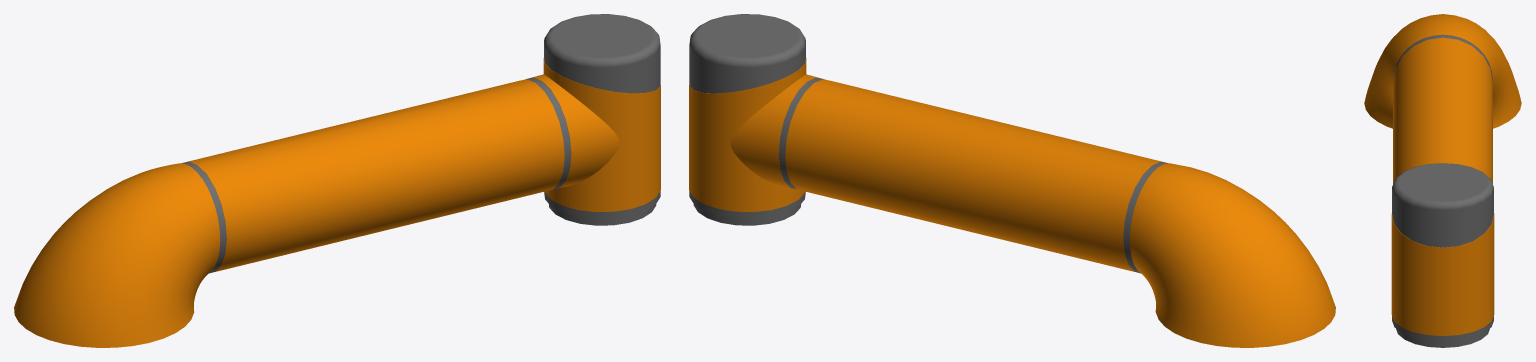
3 renders of one model, left to right at view 1: azimuth 30°, elevation 25°; view 2: azimuth 150°, elevation 25°; view 3: azimuth 270°, elevation 25°, orthographic. The views are drawn at different scales.
Parts seen in each view (by area): view 1: FBXASC195FBXASC149FBXASC195FBXASC179FBXASC195FBXASC129FBXASC195F; view 2: FBXASC195FBXASC149FBXASC195FBXASC179FBXASC195FBXASC129FBXASC195F; view 3: FBXASC195FBXASC149FBXASC195FBXASC179FBXASC195FBXASC129FBXASC195F.
Boxes of the visible parts, box(x1,y1,x2,y2) form: FBXASC195FBXASC149FBXASC195FBXASC179FBXASC195FBXASC129FBXASC195F: box(14, 14, 660, 347); FBXASC195FBXASC149FBXASC195FBXASC179FBXASC195FBXASC129FBXASC195F: box(689, 14, 1335, 347); FBXASC195FBXASC149FBXASC195FBXASC179FBXASC195FBXASC129FBXASC195F: box(1364, 14, 1521, 347).
Bounding box in the file's own units: 0.4735 × 0.1203 × 0.118.
